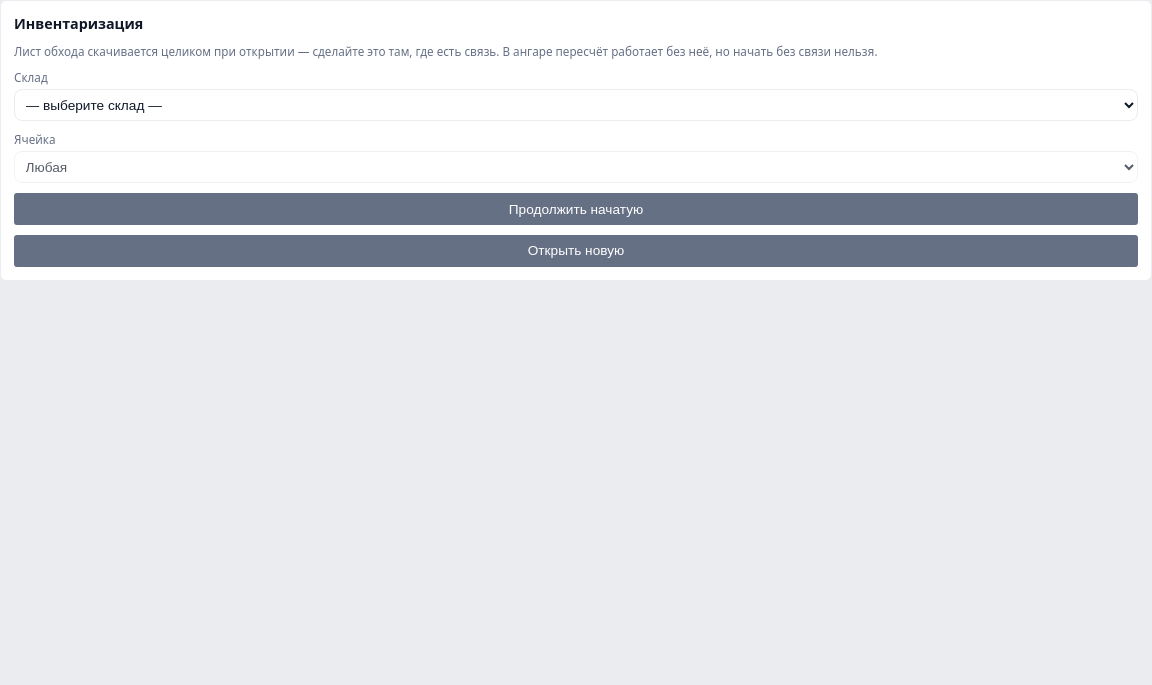
лист обхода пересчёта › строка листа называет состояние; лист без поля не ломается
Step 1. Select "Ткацкая" in the dropdown labelled "Склад" → (576, 105), box [14,89,1138,121]
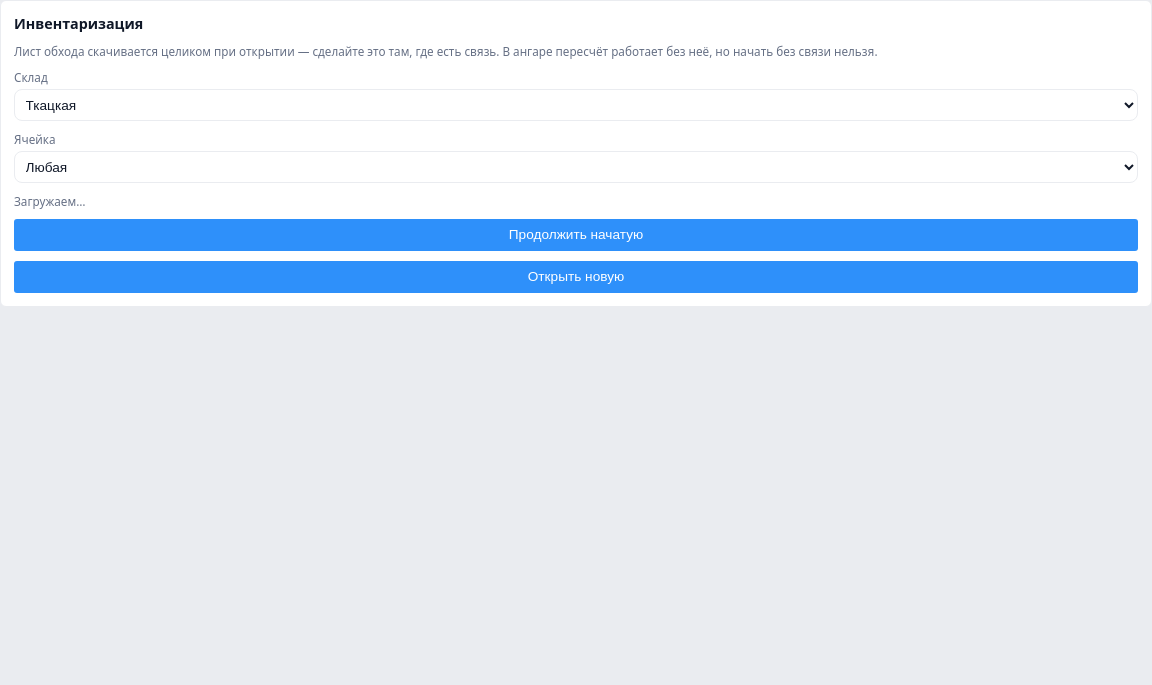
Step 2. Click the button "Открыть новую" → click(576, 277), box [14,261,1138,293]
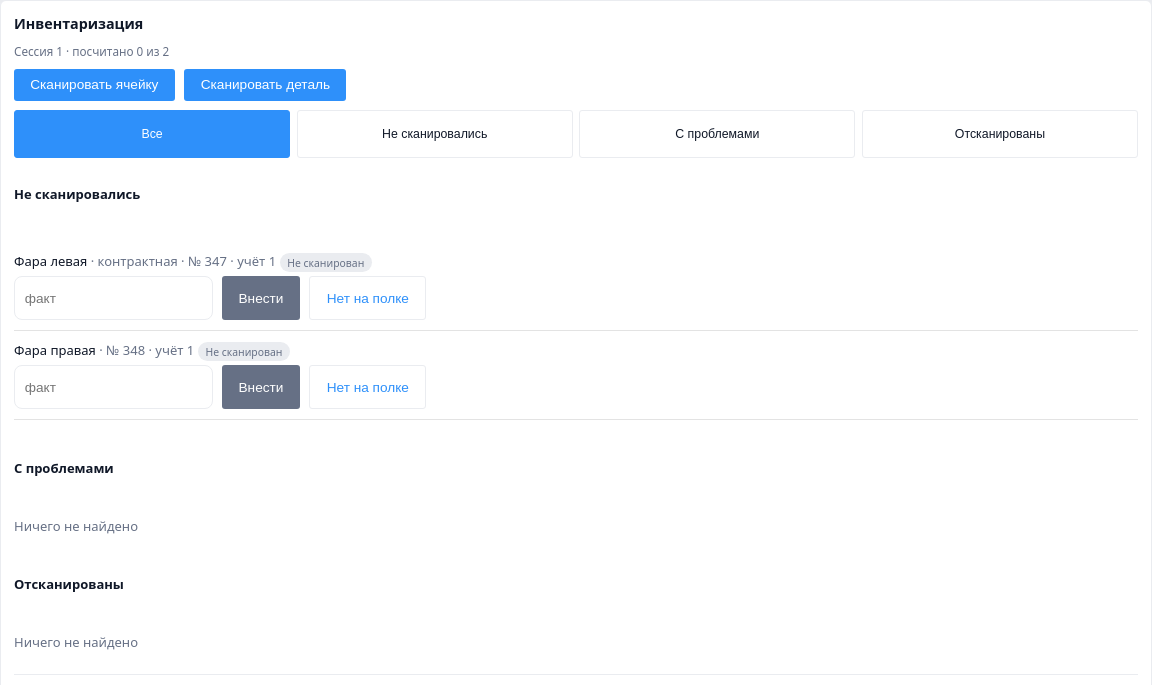
Expected: the list item "Фара левая" shows "Фара левая · контрактная · № 347", [14,242,1138,331]
Expected: the list item "Фара правая" shows "Фара правая · № 348", [14,331,1138,420]
